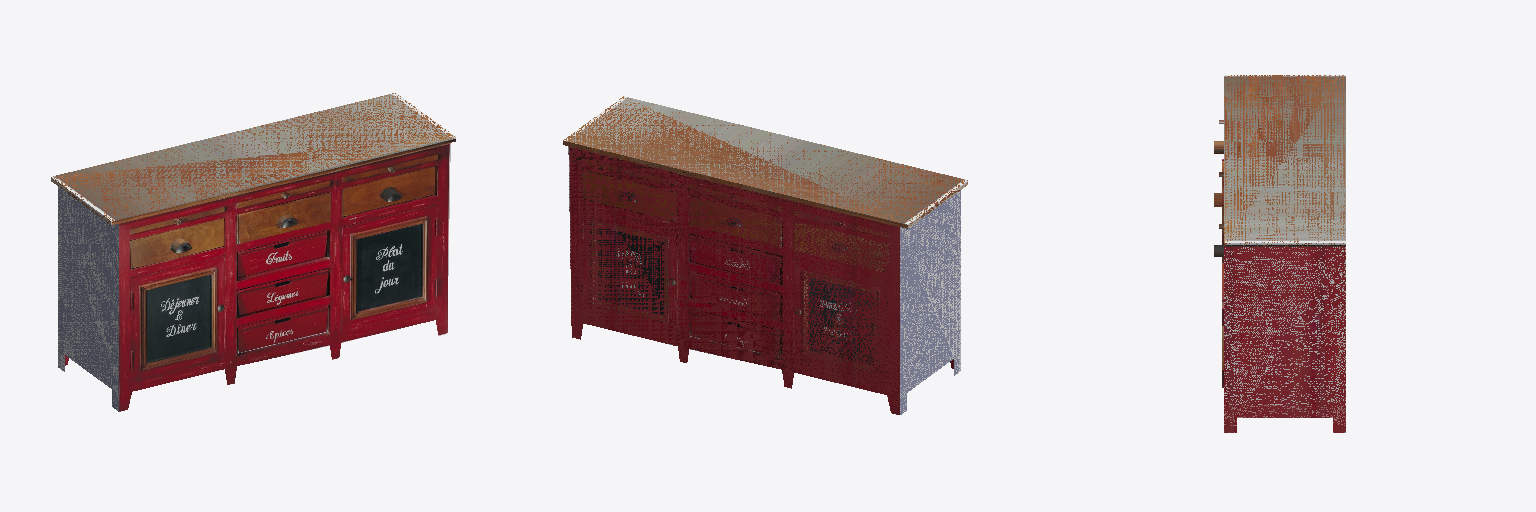
The picture shows the model from 3 angles: view 1: azimuth 30°, elevation 25°; view 2: azimuth 150°, elevation 25°; view 3: azimuth 270°, elevation 25°; orthographic projection.
Parts seen in each view (by area): view 1: SketchUp.001_ID24, SketchUp_ID2, SketchUp.003_ID45, SketchUp.011_ID111, SketchUp.010_ID103, SketchUp.006_ID71, SketchUp.007_ID79, SketchUp.009_ID95, SketchUp.005_ID63, SketchUp.004_ID55, SketchUp.008_ID87, SketchUp.012_ID119 (+1 smaller); view 2: SketchUp.002_ID32, SketchUp_ID2, SketchUp.003_ID45; view 3: SketchUp.002_ID32, SketchUp_ID2.
Boxes of the visible parts, x1,y1,x2,y2 form: SketchUp.001_ID24: [111, 137, 455, 411]; SketchUp_ID2: [51, 93, 455, 224]; SketchUp.003_ID45: [58, 187, 118, 411]; SketchUp.011_ID111: [358, 224, 421, 312]; SketchUp.010_ID103: [147, 275, 210, 362]; SketchUp.006_ID71: [343, 166, 436, 218]; SketchUp.007_ID79: [238, 230, 329, 280]; SketchUp.009_ID95: [238, 305, 329, 354]; SketchUp.005_ID63: [238, 193, 330, 243]; SketchUp.004_ID55: [130, 218, 225, 269]; SketchUp.008_ID87: [237, 269, 328, 316]; SketchUp.012_ID119: [141, 268, 216, 371]; SketchUp.002_ID32: [568, 146, 899, 414]; SketchUp_ID2: [563, 96, 967, 228]; SketchUp.003_ID45: [900, 190, 960, 414]; SketchUp.002_ID32: [1224, 247, 1345, 432]; SketchUp_ID2: [1224, 75, 1345, 246].
Bounding box in the file's own units: 15.11 × 8.14 × 4.97.
Materials: 5 (3 with a texture image).